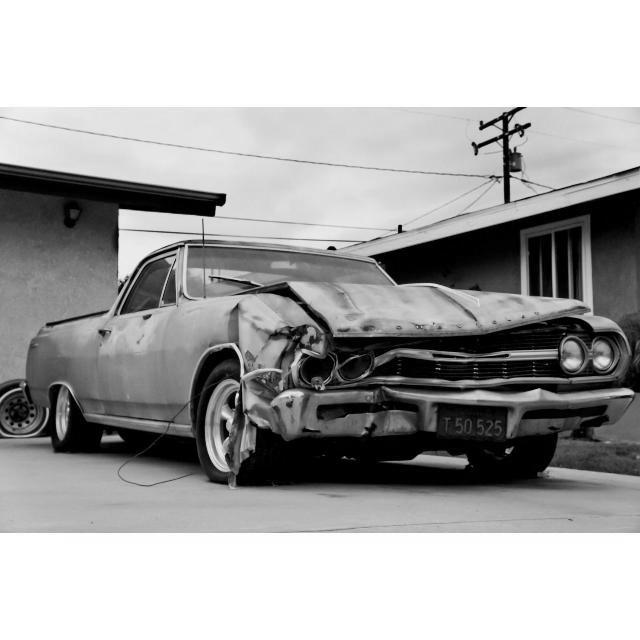Headlight-damage: (265, 333, 380, 393)
bonnet-dent: (243, 265, 609, 337)
doorouter-dent: (83, 309, 188, 411)
fender-dent: (168, 300, 297, 386)
front-bumper-dent: (310, 319, 631, 439)
